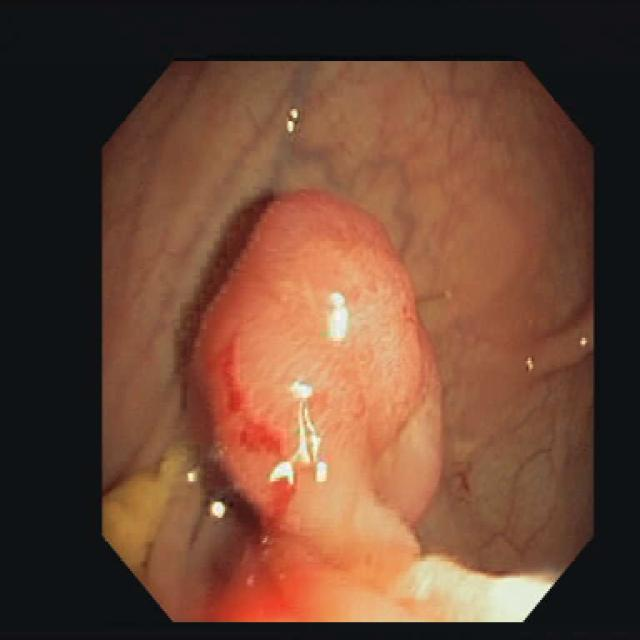tumor: (188, 191, 530, 620)
